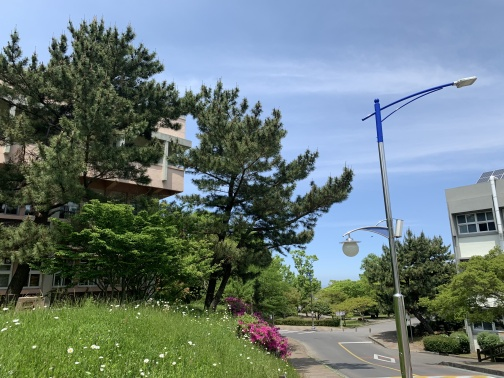College Of Education: (2, 72, 193, 315)
